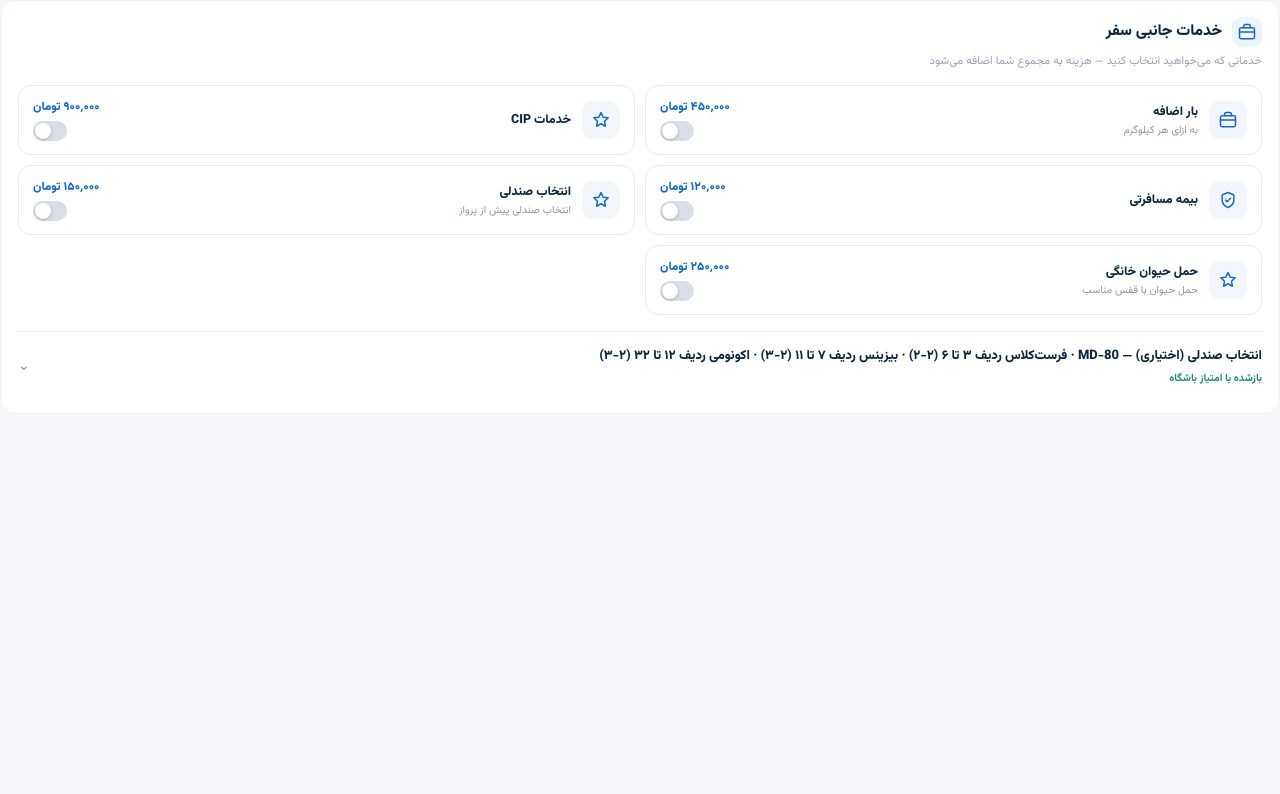
Scenario: ExtrasStep — design parity › uses MD-80 PDF chart when API still returns legacy A320 lettering
Click the button with test id "checkout-seat-toggle".
click(640, 367)  # box [18,347,1262,387]
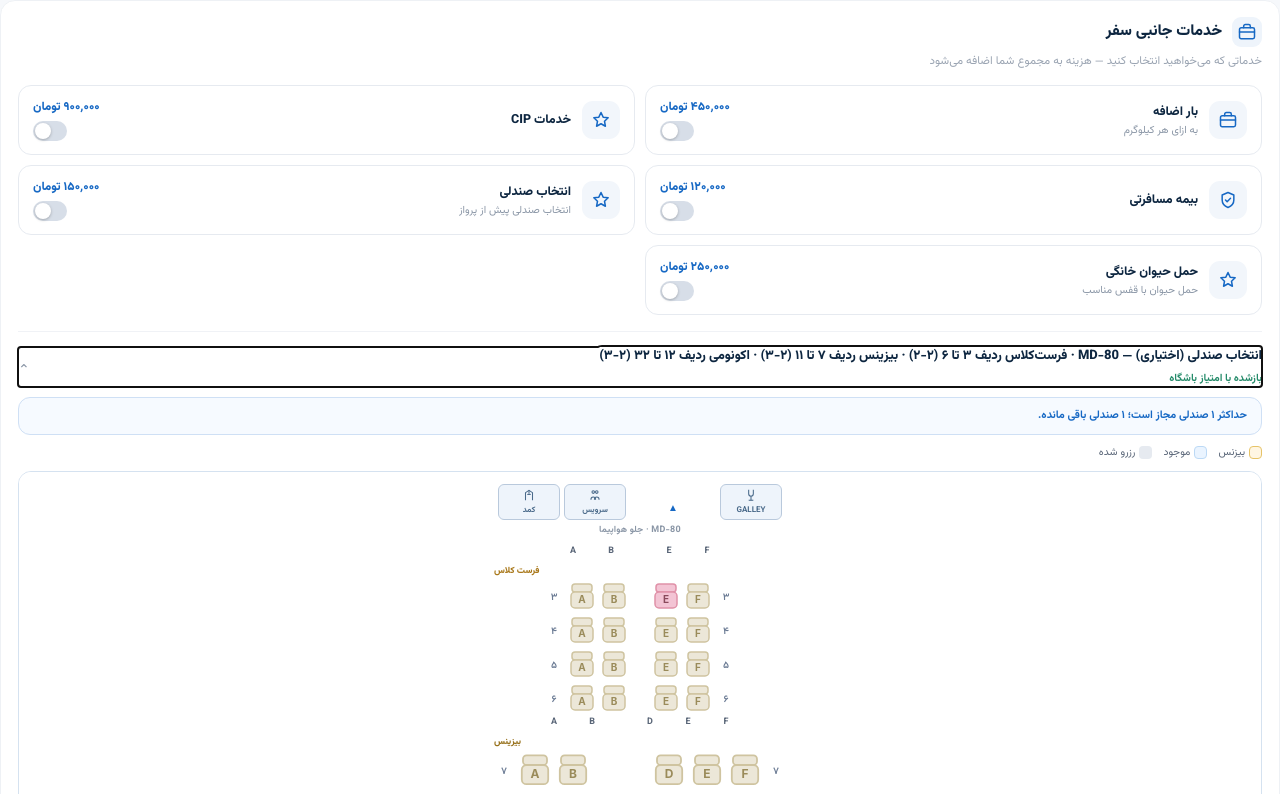
Expected: the button with test id "checkout-seat-7D" is shown, [652,753,686,789]
